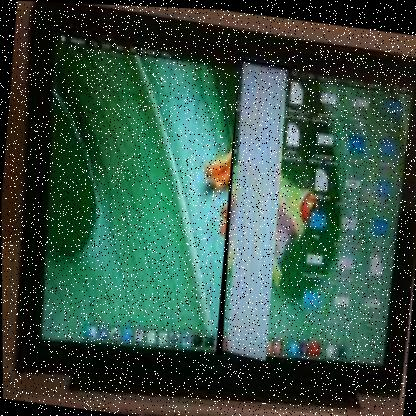lines: (213, 56, 292, 360)
